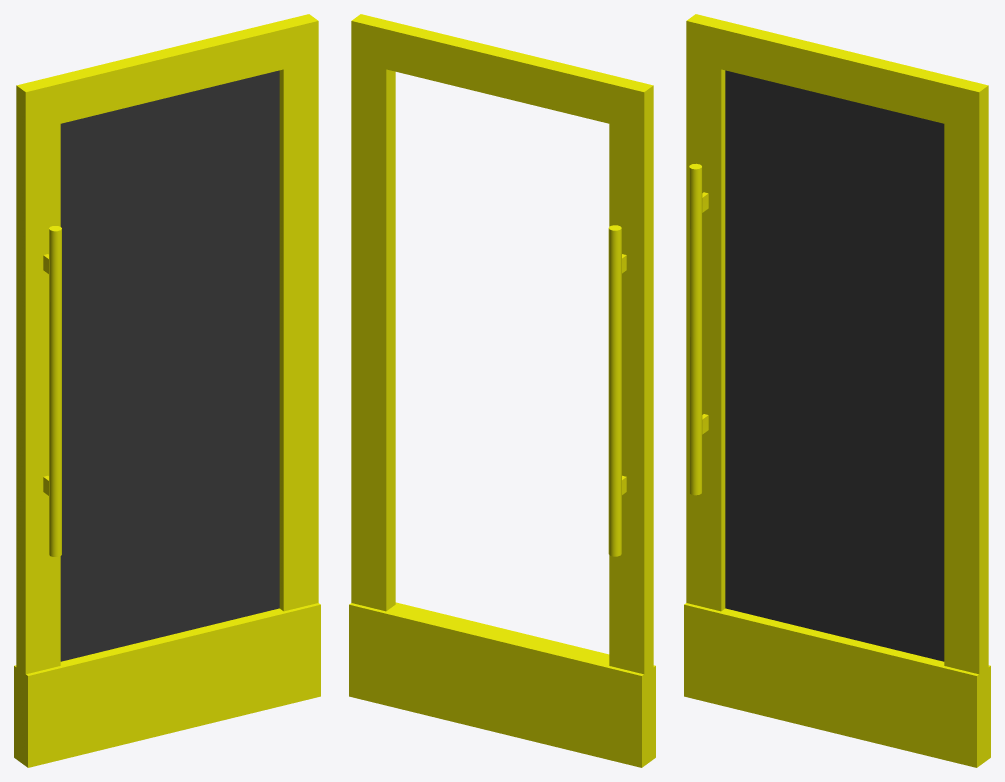
File: door-2.glb
The picture shows the model from 3 angles, left to right: view 1: azimuth 30°, elevation 25°; view 2: azimuth 150°, elevation 25°; view 3: azimuth 330°, elevation 25°; orthographic projection.
Parts seen in each view (by area): view 1: Door_2; view 2: Door_2; view 3: Door_2.
Part boxes in pixels (box(x1,y1,x2,y2)): Door_2: box(14, 14, 320, 767); Door_2: box(349, 14, 655, 767); Door_2: box(684, 14, 990, 767).
Bounding box in the file's own units: 1 × 2.2 × 0.2103.
Materials: 2 (1 with a texture image).
